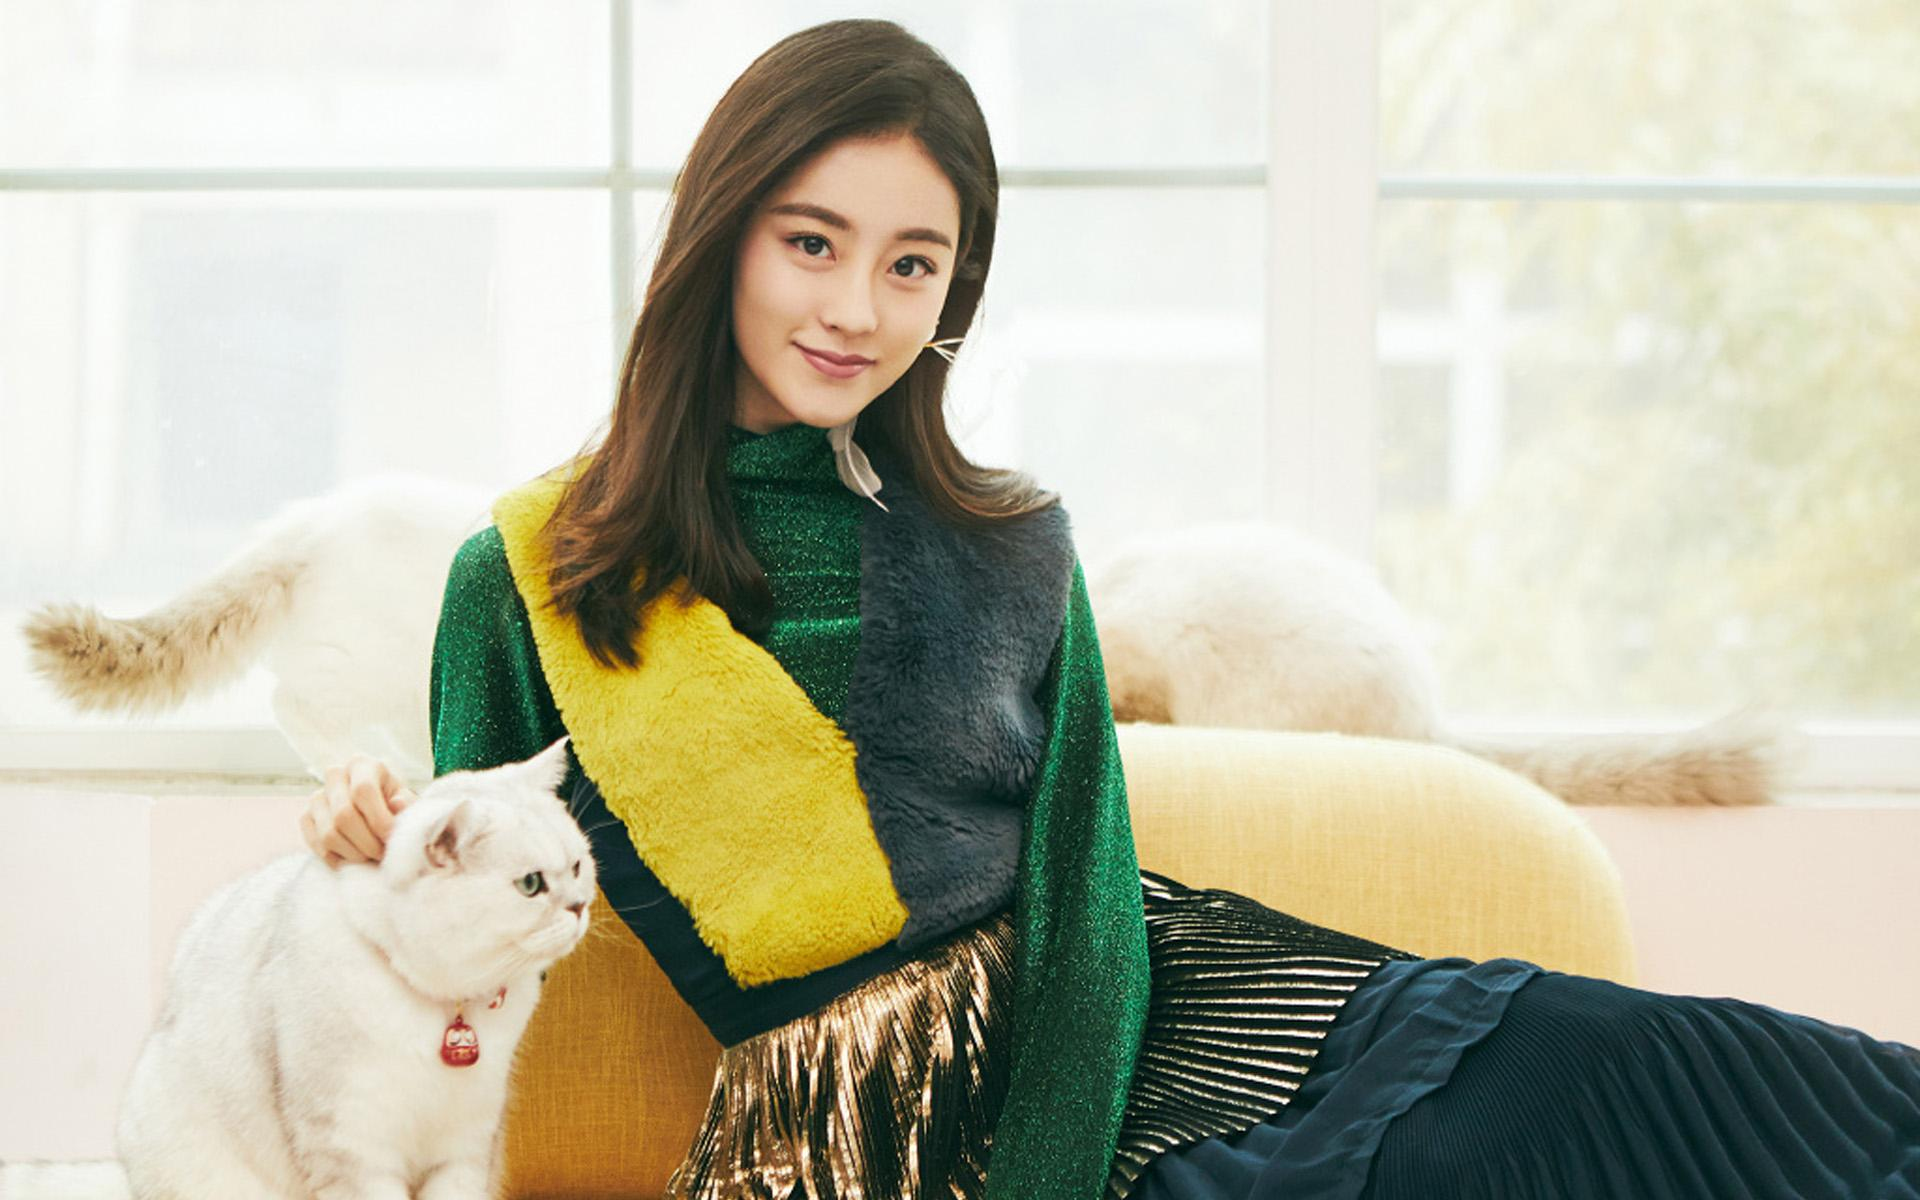person: (395, 8, 1222, 1041)
